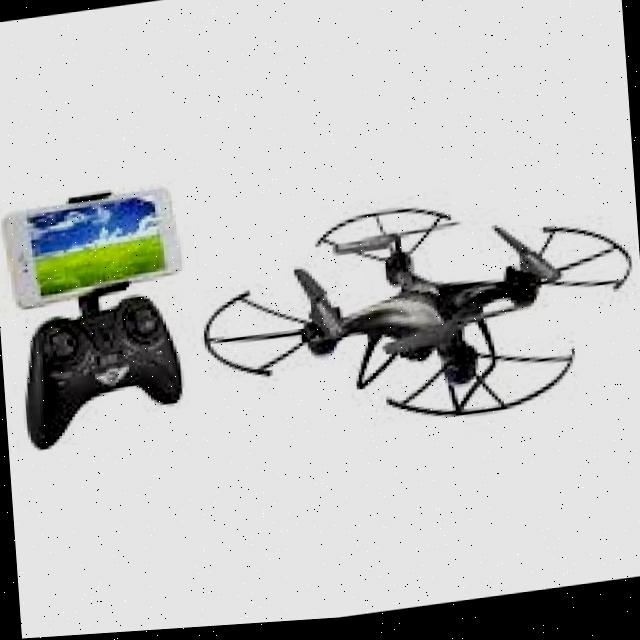drone: (189, 166, 640, 482)
